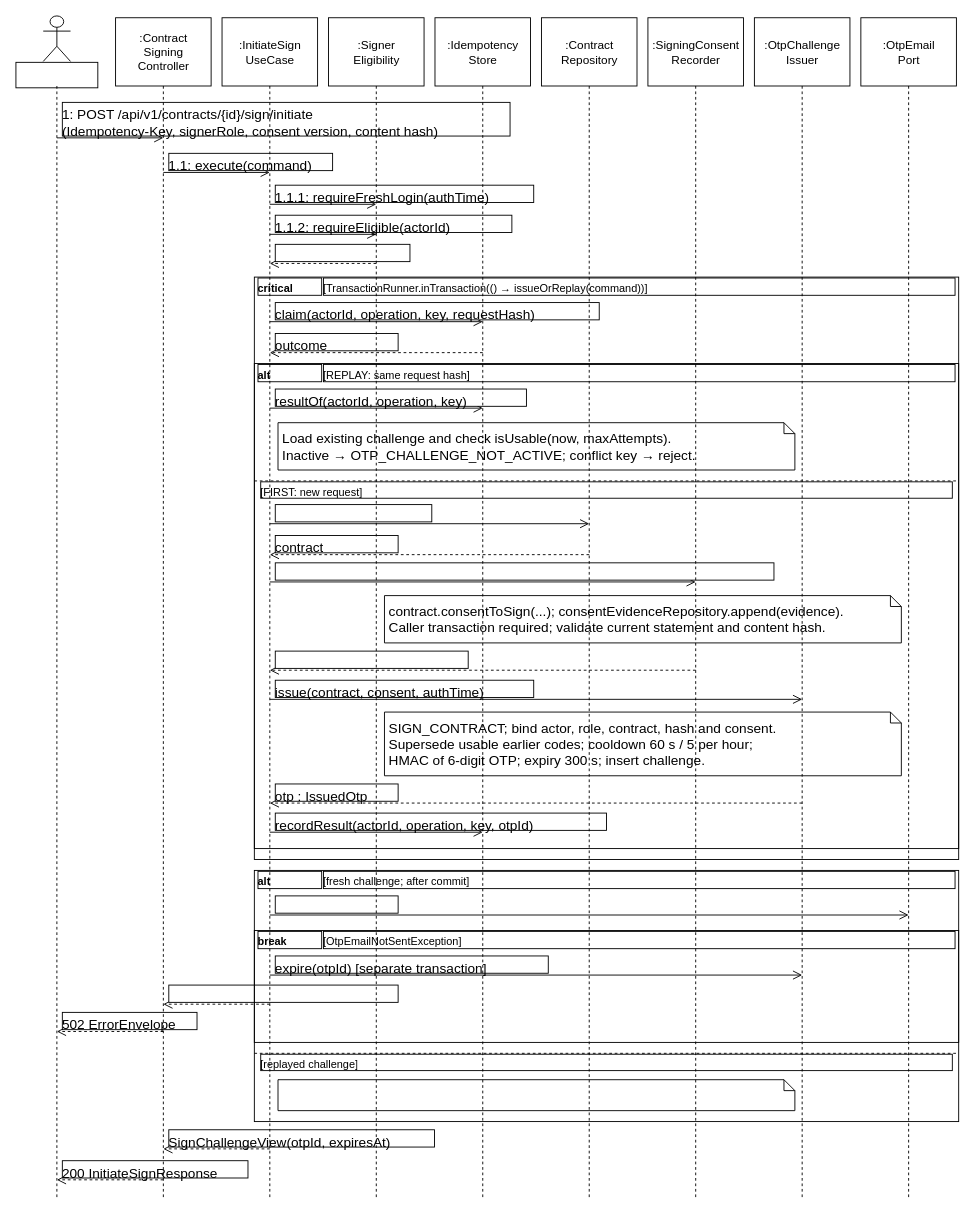
This 976x1217 diagram has some shape labels left out. The centre of each missing label's shape, as x and y in pixels:
Buyer / Seller: the point at 56,74
consent : ConsentEvidence: the point at 371,659
findById(contractId): the point at 353,513
record(contract, actorId, signerRole, version, hash, correlationId): the point at 524,571
Return existing usable challenge; do not send another email.: the point at 536,1095
send(OtpEmail): the point at 336,904
signer : UserInfo: the point at 342,252
throw OtpEmailNotSentException: the point at 283,993
